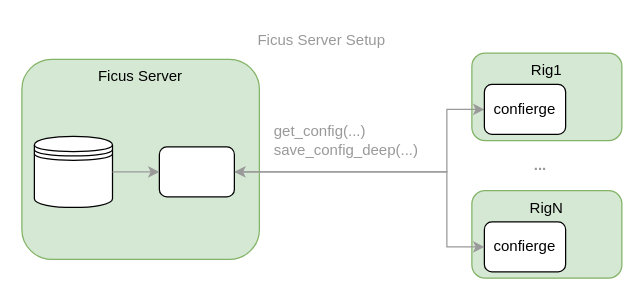
Some shapes in this 644 by 300 pixel diagram are drawn without their labels. Here are the shapes that lost their labels. From the top down, the centre of each, then its label:
point 72,171: zookeeper database
point 196,171: ficus (FastAPI)
